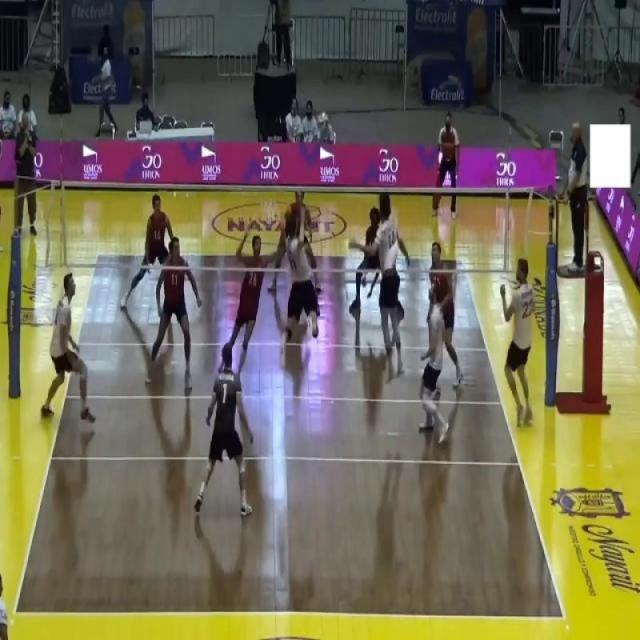volleyball: (317, 111, 329, 130)
